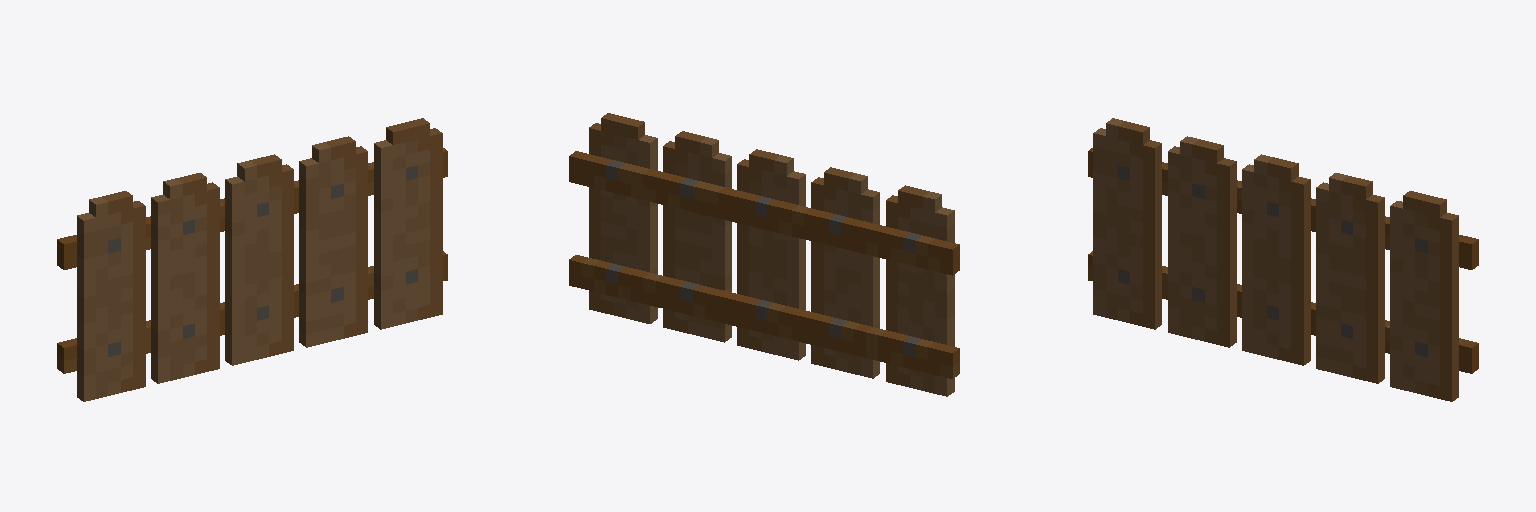
3 views of the same model, side by side, from view 1: azimuth 30°, elevation 25°; view 2: azimuth 150°, elevation 25°; view 3: azimuth 330°, elevation 25° (orthographic).
Visible parts, largest first — view 1: Model; view 2: Model; view 3: Model.
Boxes of the visible parts, <box> form: Model: <box>57,118,447,401</box>; Model: <box>569,113,959,396</box>; Model: <box>1088,118,1478,401</box>.
Bounding box in the file's own units: 31 × 15 × 2.
Materials: 1 (1 with a texture image).